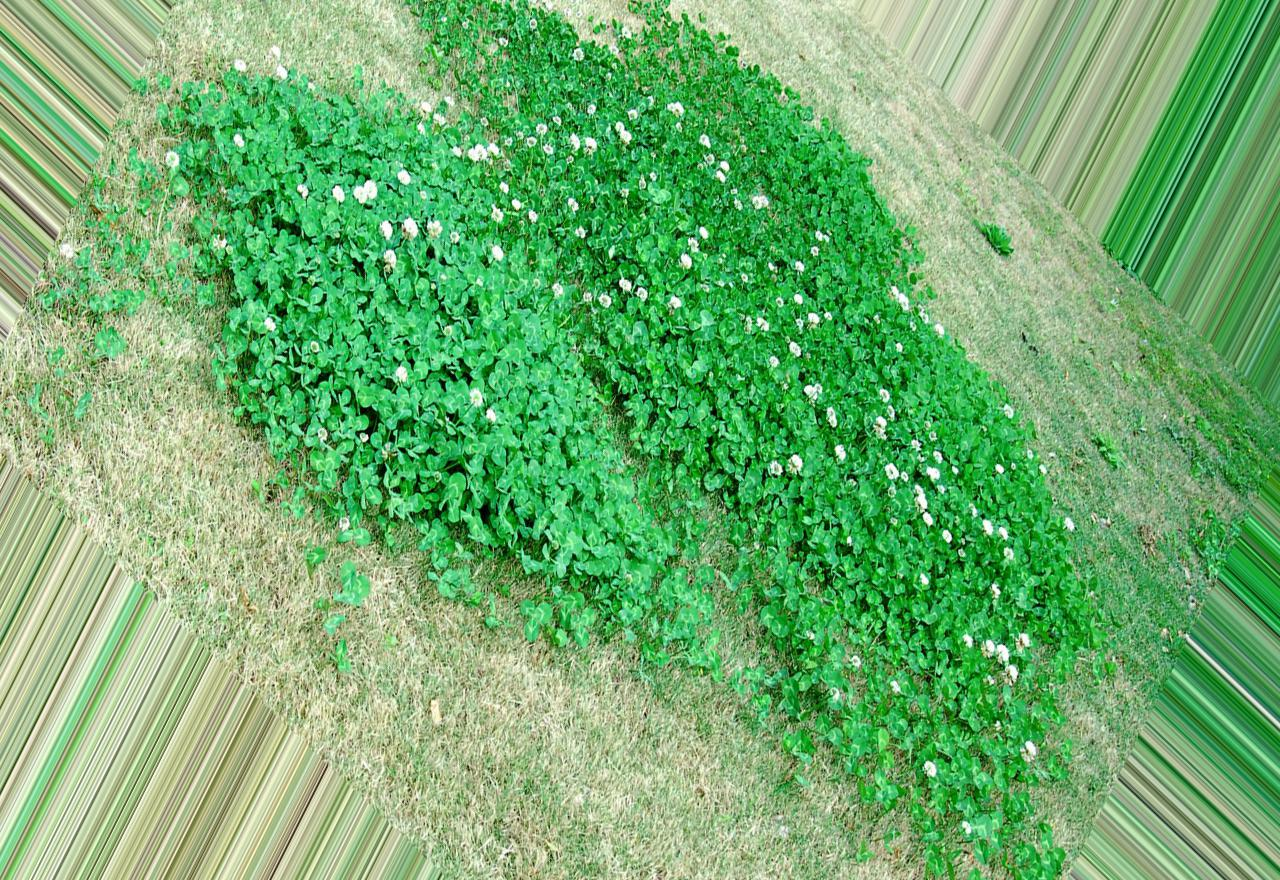patch: (297, 592, 688, 853), (918, 119, 1138, 320), (83, 389, 279, 582), (770, 1, 909, 121), (239, 12, 394, 72), (707, 767, 815, 853)
